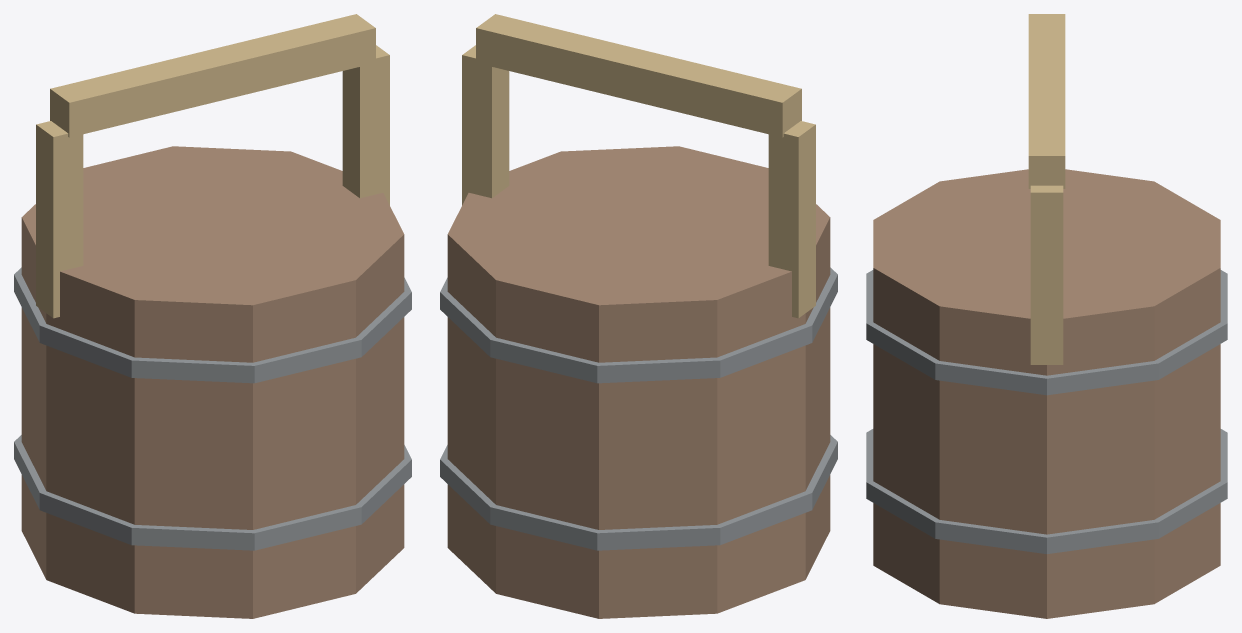
Rendered from well_water_bucket.glb.
3 views of the same model, side by side, from view 1: azimuth 30°, elevation 25°; view 2: azimuth 150°, elevation 25°; view 3: azimuth 270°, elevation 25° (orthographic). The views are drawn at different scales.
Parts seen in each view (by area): view 1: cylinder_0, box_5, cylinder_1, cylinder_2, beam_3, beam_4; view 2: cylinder_0, box_5, cylinder_1, cylinder_2, beam_3, beam_4; view 3: cylinder_0, cylinder_2, cylinder_1, box_5, beam_4.
Part boxes in pixels (<box>): cylinder_0: <box>21,146,404,618</box>; box_5: <box>50,14,375,137</box>; cylinder_1: <box>14,435,411,550</box>; cylinder_2: <box>14,267,411,383</box>; beam_3: <box>36,121,83,318</box>; beam_4: <box>342,45,389,205</box>; cylinder_0: <box>447,146,830,618</box>; box_5: <box>476,14,801,137</box>; cylinder_1: <box>440,435,837,550</box>; cylinder_2: <box>440,267,837,383</box>; beam_3: <box>768,121,815,318</box>; beam_4: <box>462,45,509,205</box>; cylinder_0: <box>873,169,1220,618</box>; cylinder_2: <box>866,270,1227,395</box>; cylinder_1: <box>866,429,1227,553</box>; box_5: <box>1028,14,1065,188</box>; beam_4: <box>1030,185,1063,364</box>.
Bounding box in the file's own units: 0.52 × 0.69 × 0.4945.
